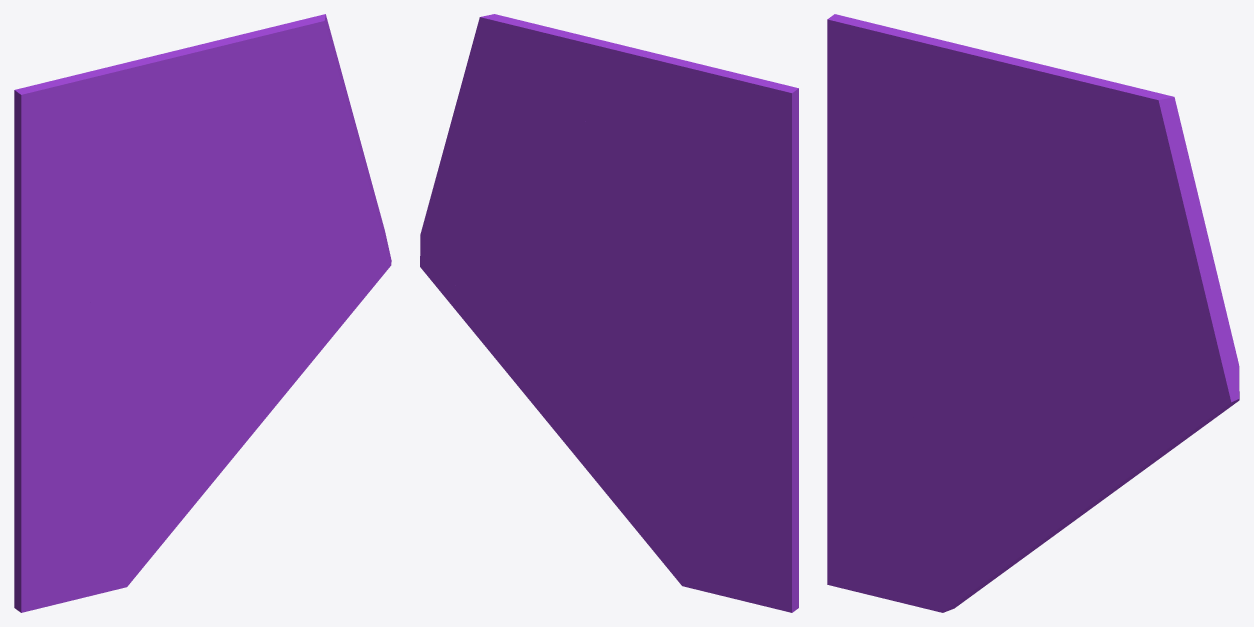
File: Glass_14_3_chunks.fbx
3 views of the same model, side by side, from view 1: azimuth 30°, elevation 25°; view 2: azimuth 150°, elevation 25°; view 3: azimuth 330°, elevation 25° (orthographic). The views are drawn at different scales.
Parts seen in each view (by area): view 1: Glass_14_3_7, Glass_14_3_9, Glass_14_3_6, Glass_14_3_4, Glass_14_3_18, Glass_14_3_15, Glass_14_3_16, Glass_14_3_10, Glass_14_3_21, Glass_14_3_2, Glass_14_3_12, Glass_14_3_1 (+7 smaller); view 2: Glass_14_3_6, Glass_14_3_9, Glass_14_3_4, Glass_14_3_7, Glass_14_3_18, Glass_14_3_21, Glass_14_3_16, Glass_14_3_8, Glass_14_3_10, Glass_14_3_15, Glass_14_3_3, Glass_14_3_14 (+8 smaller); view 3: Glass_14_3_9, Glass_14_3_7, Glass_14_3_6, Glass_14_3_4, Glass_14_3_18, Glass_14_3_15, Glass_14_3_21, Glass_14_3_10, Glass_14_3_16, Glass_14_3_2, Glass_14_3_12, Glass_14_3_1 (+7 smaller).
Part boxes in pixels (x1=…): Glass_14_3_7: x1=14, y1=86, x2=212, y2=259; Glass_14_3_9: x1=204, y1=76, x2=372, y2=305; Glass_14_3_6: x1=14, y1=418, x2=201, y2=612; Glass_14_3_4: x1=192, y1=291, x2=299, y2=507; Glass_14_3_18: x1=30, y1=36, x2=244, y2=155; Glass_14_3_15: x1=14, y1=361, x2=109, y2=571; Glass_14_3_16: x1=14, y1=192, x2=104, y2=362; Glass_14_3_10: x1=63, y1=221, x2=192, y2=360; Glass_14_3_21: x1=233, y1=14, x2=342, y2=126; Glass_14_3_2: x1=297, y1=256, x2=391, y2=379; Glass_14_3_12: x1=160, y1=294, x2=214, y2=417; Glass_14_3_1: x1=236, y1=207, x2=359, y2=300; Glass_14_3_6: x1=612, y1=419, x2=798, y2=612; Glass_14_3_9: x1=432, y1=80, x2=599, y2=293; Glass_14_3_4: x1=505, y1=283, x2=622, y2=512; Glass_14_3_7: x1=625, y1=81, x2=798, y2=236; Glass_14_3_18: x1=573, y1=33, x2=776, y2=152; Glass_14_3_21: x1=463, y1=14, x2=576, y2=128; Glass_14_3_16: x1=711, y1=192, x2=798, y2=357; Glass_14_3_8: x1=599, y1=177, x2=717, y2=292; Glass_14_3_10: x1=625, y1=219, x2=749, y2=355; Glass_14_3_15: x1=719, y1=388, x2=798, y2=574; Glass_14_3_3: x1=420, y1=190, x2=512, y2=302; Glass_14_3_14: x1=742, y1=315, x2=798, y2=472; Glass_14_3_9: x1=1027, y1=174, x2=1225, y2=352; Glass_14_3_7: x1=827, y1=14, x2=1036, y2=259; Glass_14_3_6: x1=827, y1=437, x2=1024, y2=612; Glass_14_3_4: x1=1013, y1=348, x2=1142, y2=561; Glass_14_3_18: x1=852, y1=18, x2=1072, y2=165; Glass_14_3_15: x1=827, y1=334, x2=923, y2=539; Glass_14_3_21: x1=1065, y1=72, x2=1192, y2=193; Glass_14_3_10: x1=873, y1=180, x2=1014, y2=374; Glass_14_3_16: x1=827, y1=132, x2=918, y2=341; Glass_14_3_2: x1=1128, y1=380, x2=1237, y2=476; Glass_14_3_12: x1=979, y1=328, x2=1038, y2=467; Glass_14_3_1: x1=1062, y1=321, x2=1196, y2=391.
Size of the model in its own units: 864 by 1144 by 27.2.
